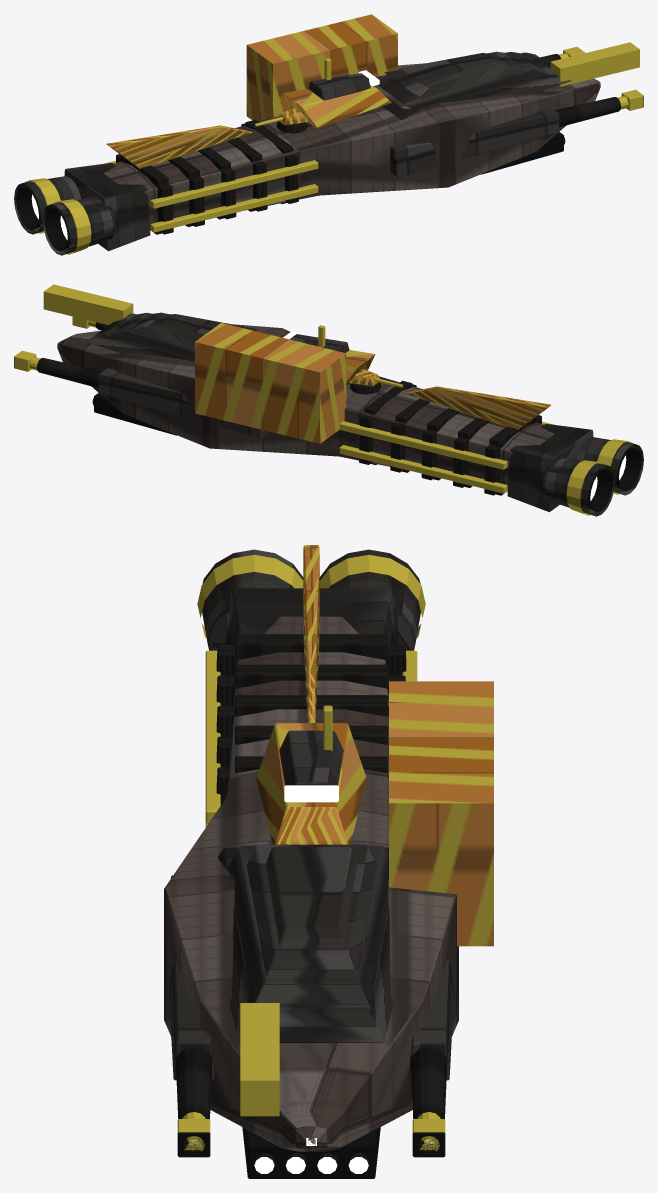
The model's file is destroyer.glb.
The picture shows the model from 3 angles, top to bottom: view 1: azimuth 30°, elevation 25°; view 2: azimuth 150°, elevation 25°; view 3: azimuth 270°, elevation 25°; orthographic projection. The views are drawn at different scales.
Parts seen in each view (by area): view 1: destroyer; view 2: destroyer; view 3: destroyer.
Part boxes in pixels (box(x1,y1,x2,y2)): destroyer: box(14, 14, 643, 255); destroyer: box(14, 284, 643, 516); destroyer: box(164, 545, 493, 1178).
Size of the model in its own units: 30 by 6.5 by 7.39.
1 material, 1 textured.
